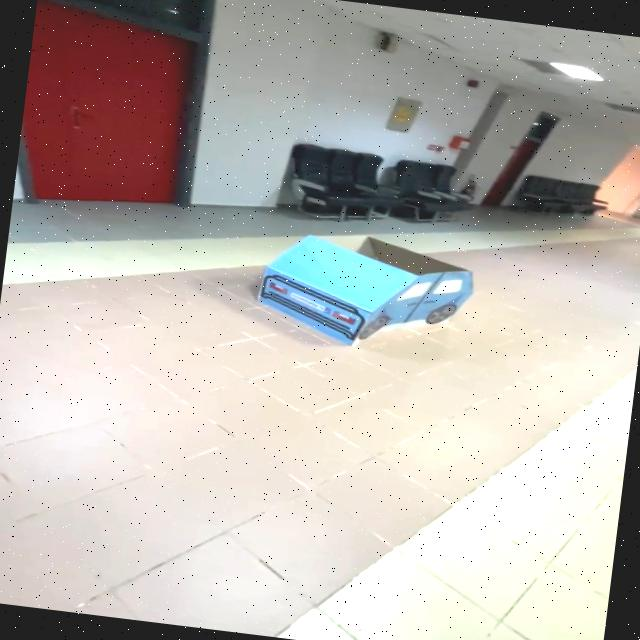blue_car: (224, 213, 525, 376)
